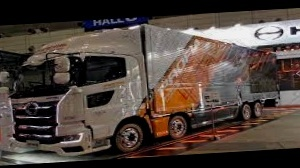truck: (5, 15, 284, 161)
